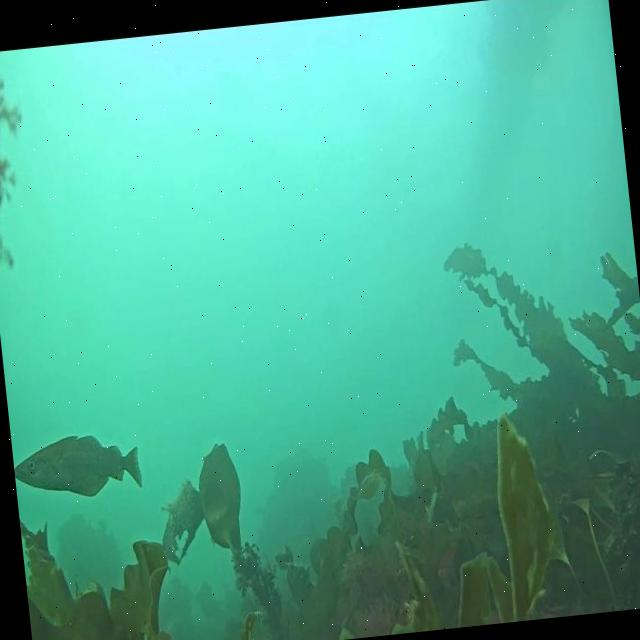fish: (12, 431, 144, 501)
